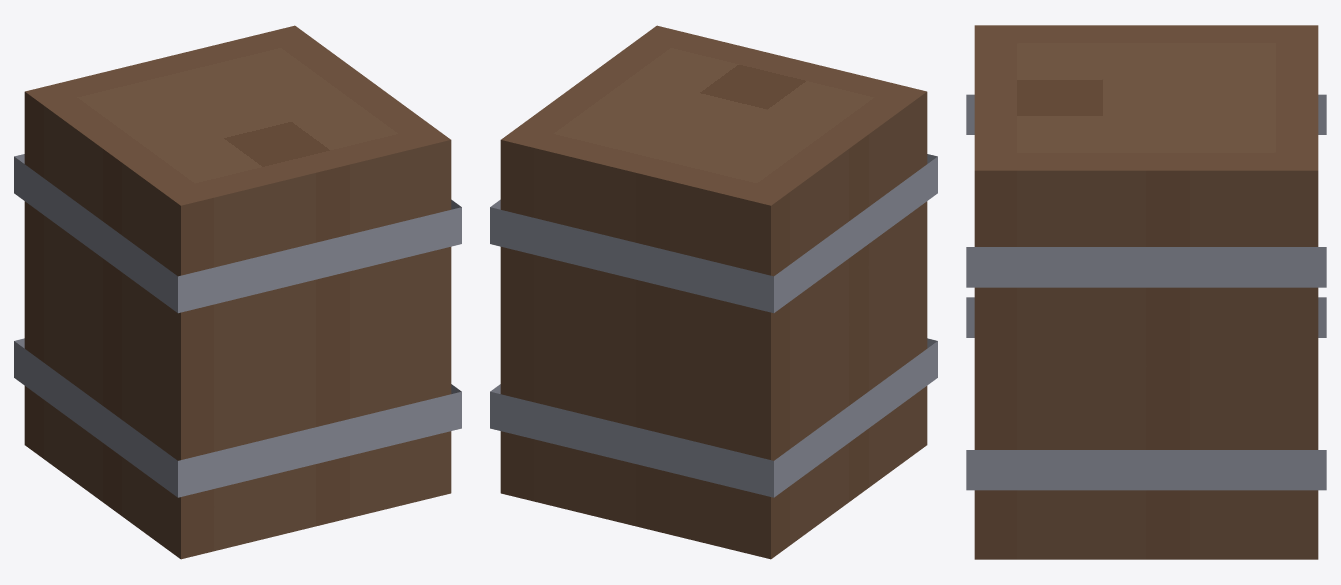
Rendered from barrel.gltf.
3 views of the same model, side by side, from view 1: azimuth 30°, elevation 25°; view 2: azimuth 150°, elevation 25°; view 3: azimuth 270°, elevation 25° (orthographic). The views are drawn at different scales.
Parts seen in each view (by area): view 1: cube (×2); view 2: cube (×2); view 3: cube (×2).
Part boxes in pixels (<box>): cube (×2): <box>14,25,461,559</box>; cube (×2): <box>490,25,937,559</box>; cube (×2): <box>966,25,1326,559</box>.
Size of the model in its own units: 0.525 by 0.65 by 0.525.
1 material, 1 textured.
